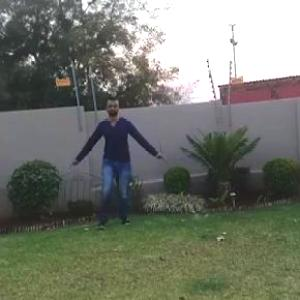land: (68, 102, 163, 228)
